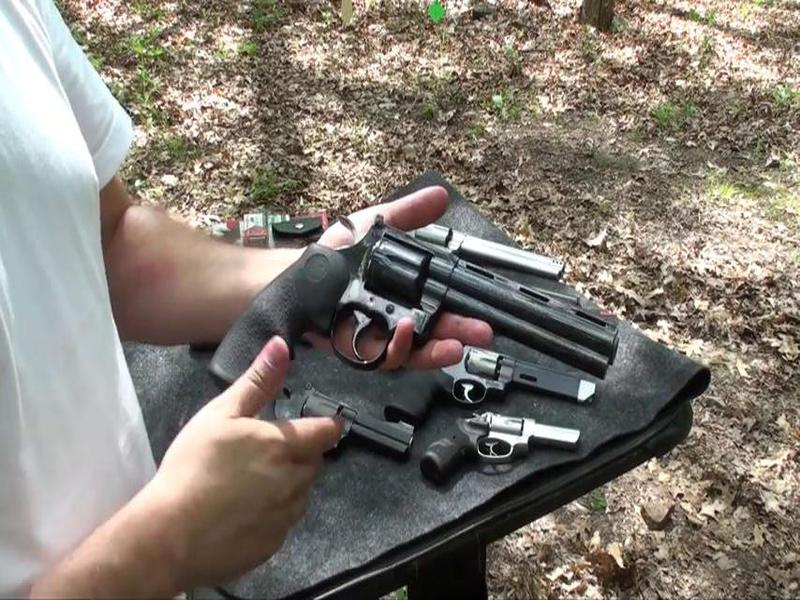Revolver: (191, 205, 639, 425)
